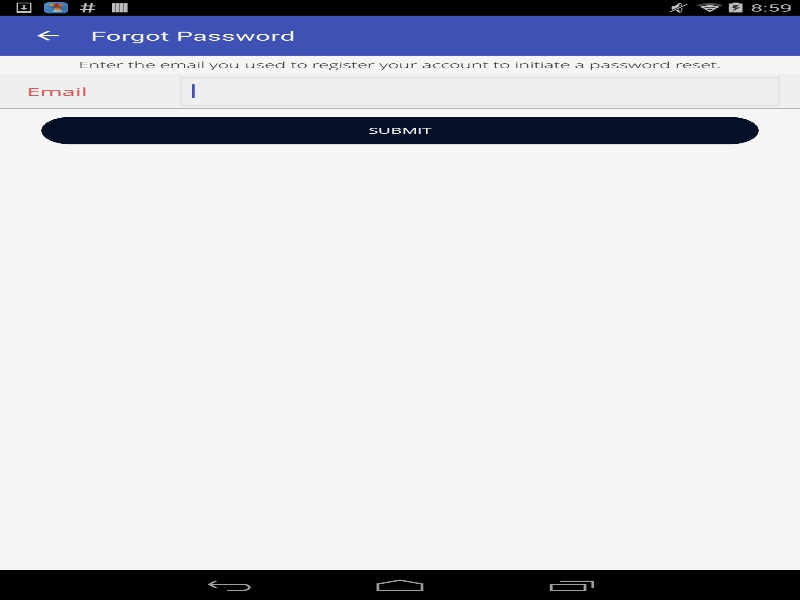Button: (40, 116, 760, 145), (10, 18, 85, 53)
Input: (186, 78, 773, 104)
